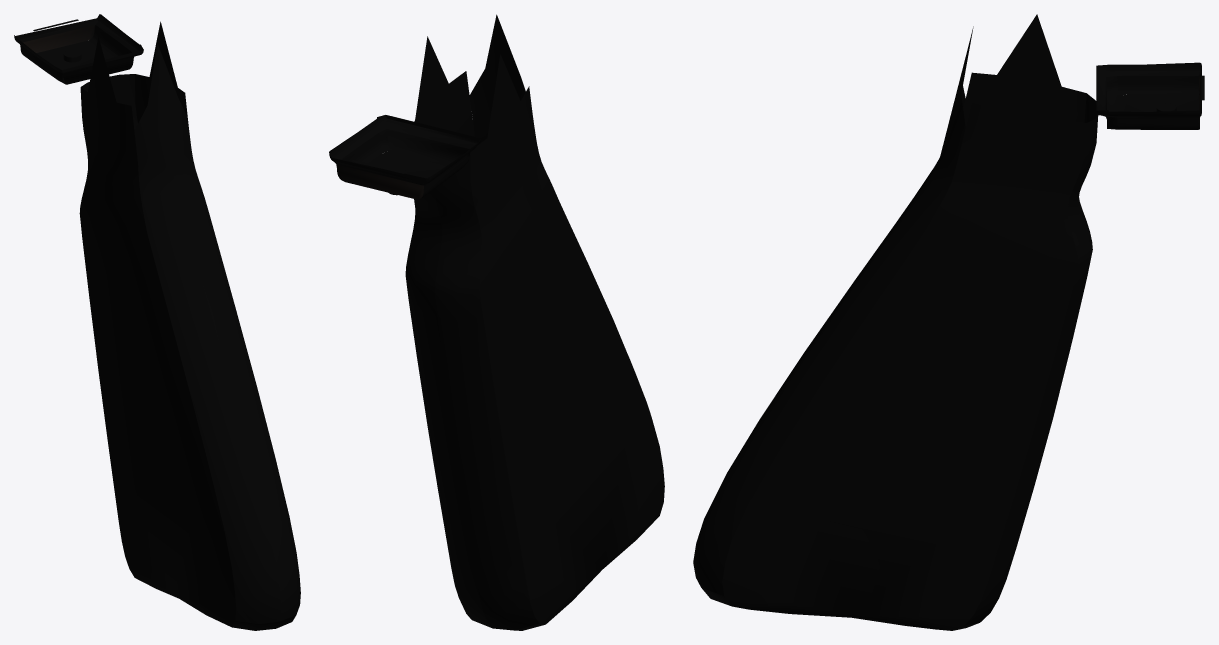
File: Stock_Thompson.fbx
3 renders of one model, left to right at view 1: azimuth 30°, elevation 25°; view 2: azimuth 150°, elevation 25°; view 3: azimuth 270°, elevation 25°, orthographic. The views are drawn at different scales.
Parts seen in each view (by area): view 1: asset_ThompsonM1928.002; view 2: asset_ThompsonM1928.002; view 3: asset_ThompsonM1928.002.
Boxes of the visible parts, x1=… form: asset_ThompsonM1928.002: x1=14, y1=14, x2=300, y2=630; asset_ThompsonM1928.002: x1=329, y1=14, x2=664, y2=630; asset_ThompsonM1928.002: x1=693, y1=14, x2=1204, y2=630.
Bounding box in the file's own units: 0.0251 × 0.1454 × 0.1132.
